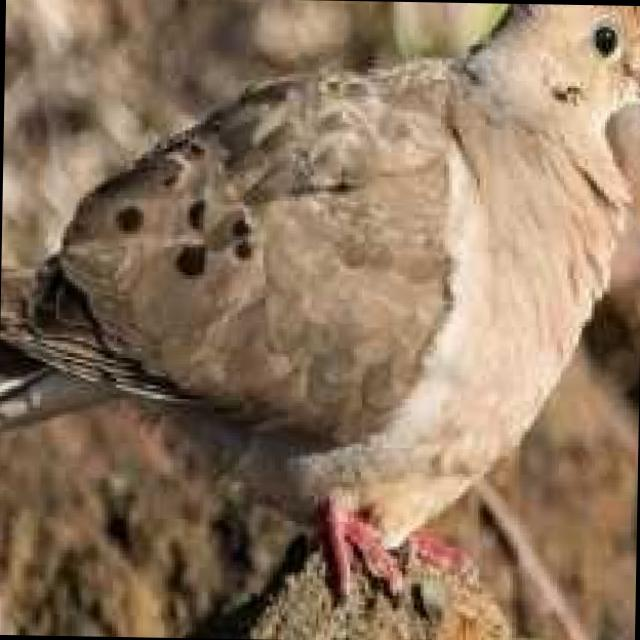bird: (0, 0, 640, 599)
